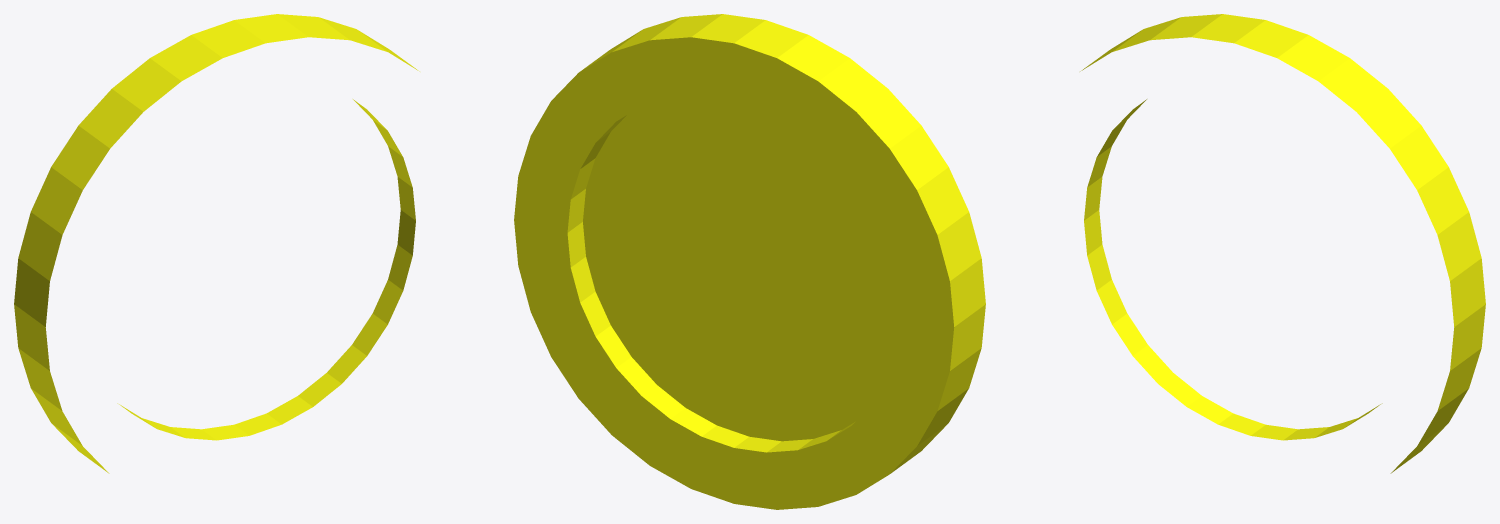
File: coin.gltf
3 views of the same model, side by side, from view 1: azimuth 30°, elevation 25°; view 2: azimuth 150°, elevation 25°; view 3: azimuth 330°, elevation 25° (orthographic).
Parts seen in each view (by area): view 1: Cylinder; view 2: Cylinder; view 3: Cylinder.
Part boxes in pixels (x1,y1,x2,y2): Cylinder: (14,14,419,473); Cylinder: (514,14,985,509); Cylinder: (1080,14,1485,473).
Size of the model in its own units: 2 by 2 by 0.25.
